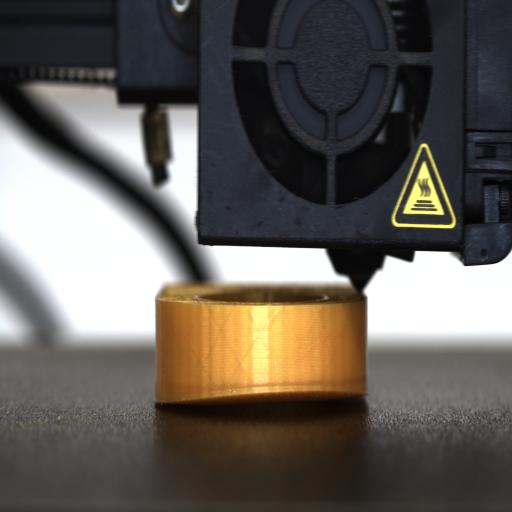warp: (160, 367, 367, 415)
